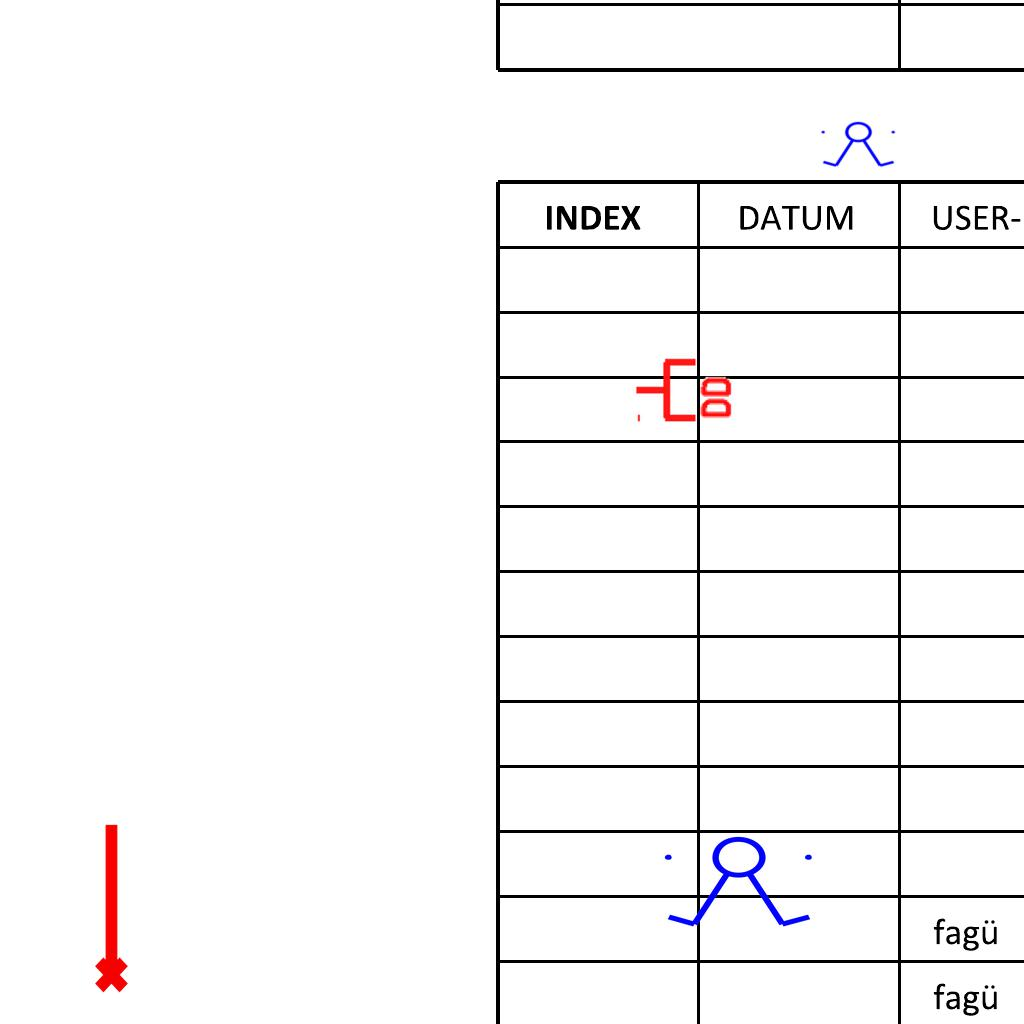ASR_Ansaugoeffnung: (86, 819, 132, 995)
Datenanschluss_zweifach: (633, 354, 736, 423)
Serienschalter: (656, 835, 824, 931), (817, 121, 901, 169)
